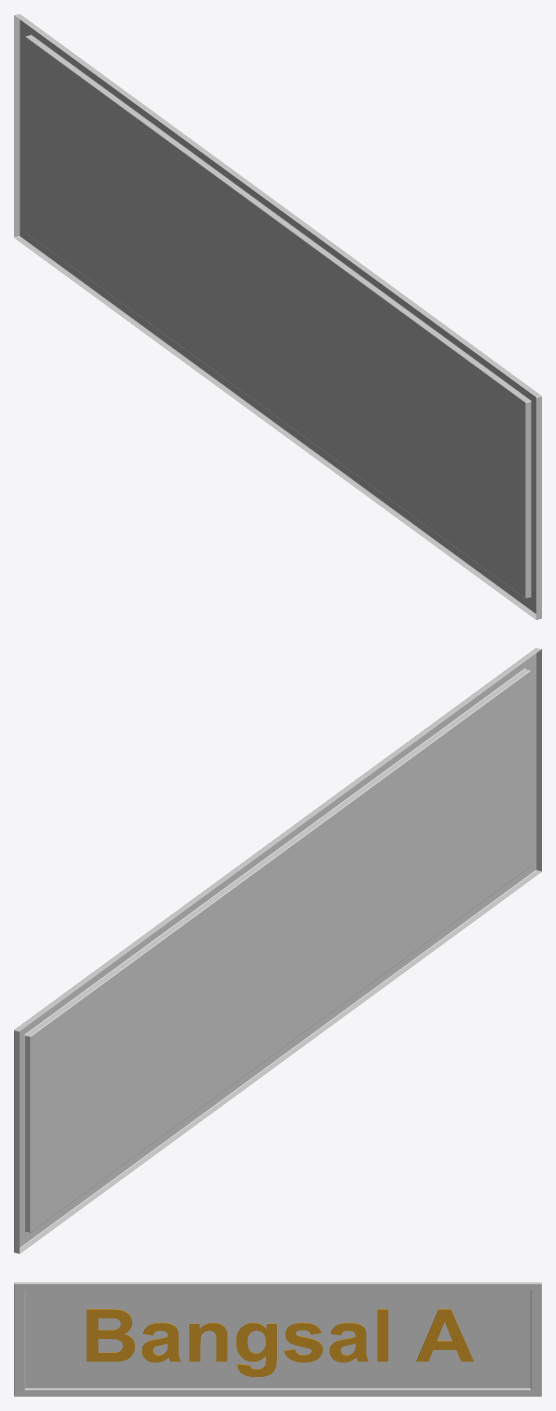
The model's file is papan_nama_ruang_bangsala.fbx.
3 renders of one model, top to bottom at view 1: azimuth 30°, elevation 25°; view 2: azimuth 150°, elevation 25°; view 3: azimuth 270°, elevation 25°, orthographic. The views are drawn at different scales.
Visible parts, largest first — view 1: Plane; view 2: Plane; view 3: Plane, Text.
Part boxes in pixels (bbox=[...]): Plane: bbox=[14, 14, 541, 619]; Plane: bbox=[14, 648, 541, 1253]; Plane: bbox=[14, 1282, 541, 1396]; Text: bbox=[86, 1309, 473, 1376].
Bounding box in the file's own units: 0.4764 × 16.57 × 70.39.
